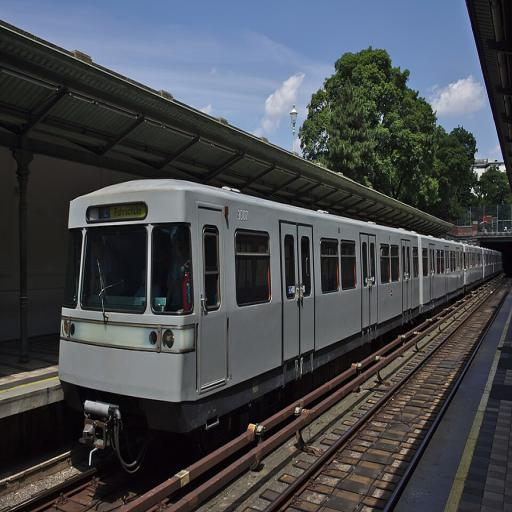Silberpfeil: (52, 174, 504, 476)
